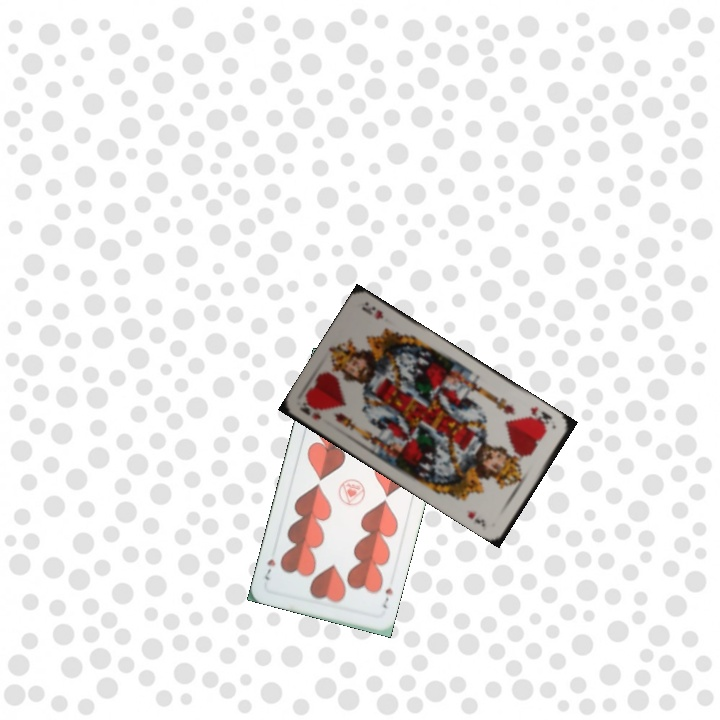H7: (379, 584, 395, 611)
HK: (525, 403, 555, 429), (296, 403, 324, 422)
